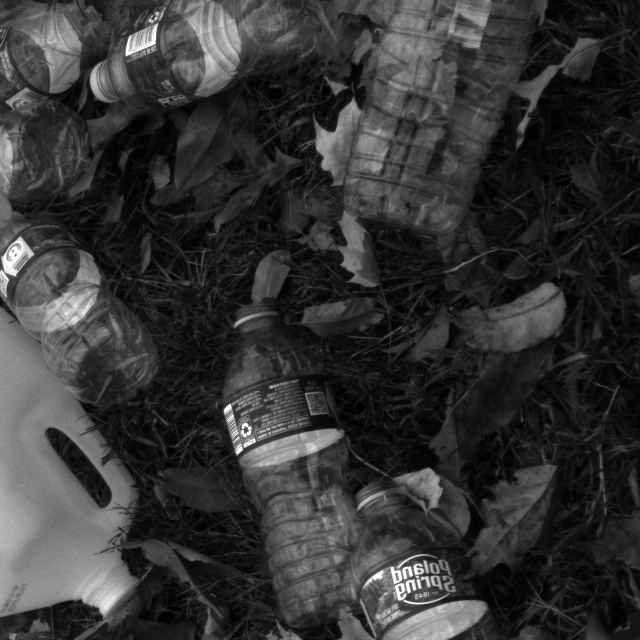bottle: (332, 0, 550, 228), (215, 298, 367, 625), (345, 481, 560, 640), (0, 202, 164, 405), (79, 0, 334, 107), (0, 0, 186, 51)
can: (0, 281, 143, 628)
